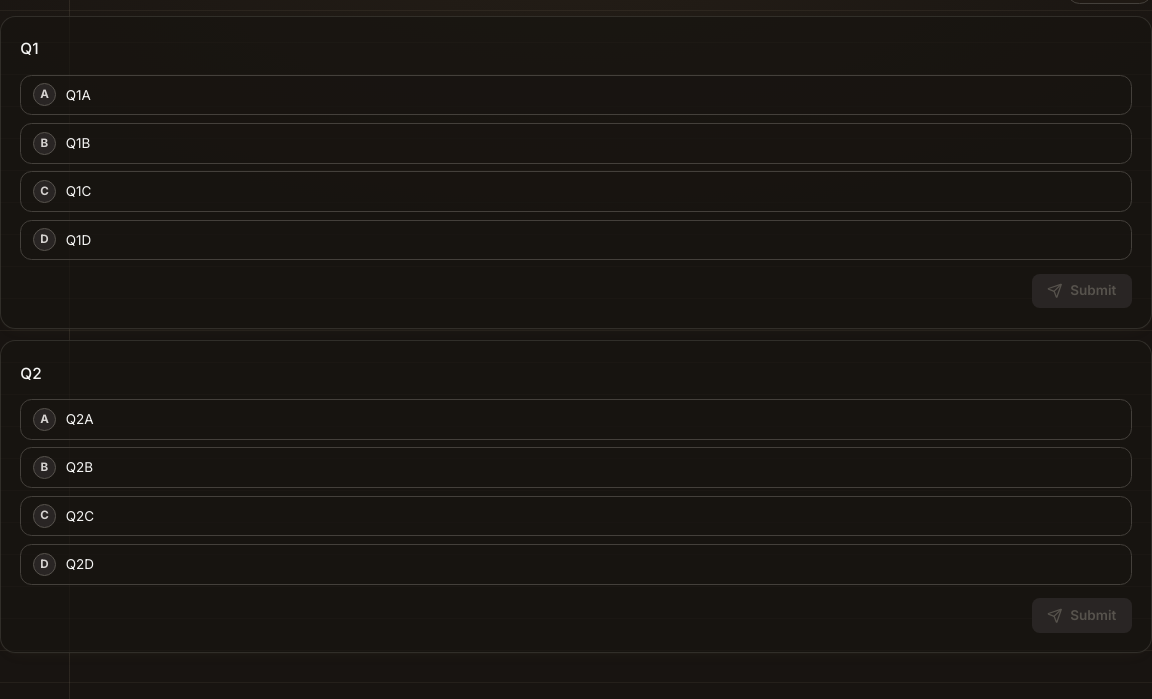
Test: QuizSection › shows a perfect-score summary when every question is answered correctly
This screenshot has width=1152, height=699.
Click the radio button labelled "Q1A". click: (44,95)
box: [20, 75, 1132, 115]
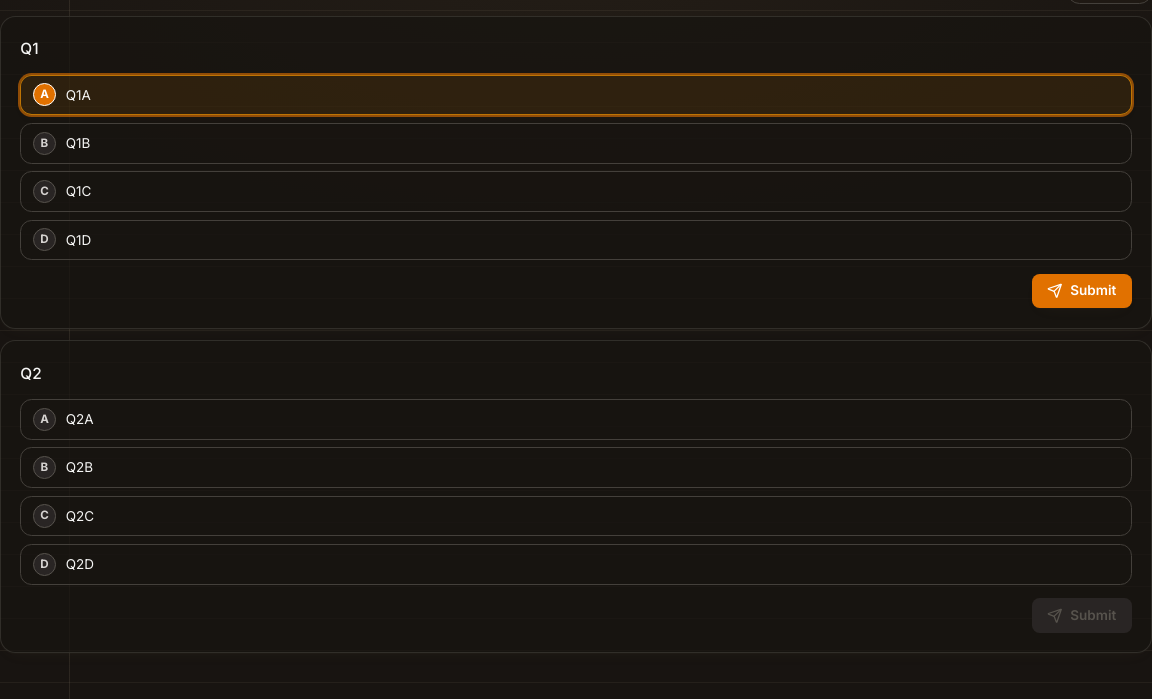
Click the 1st button "Submit". click: (1082,291)
box: [1032, 274, 1132, 308]
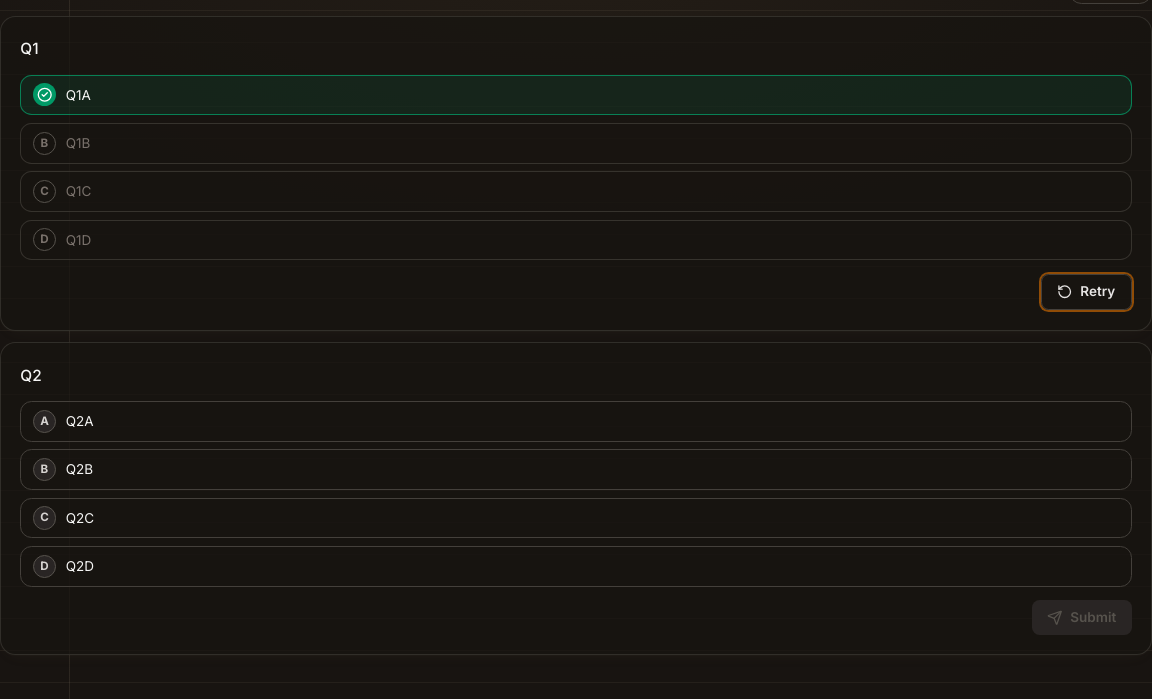
Click the radio button labelled "Q2B". click: (44,470)
box: [20, 449, 1132, 490]
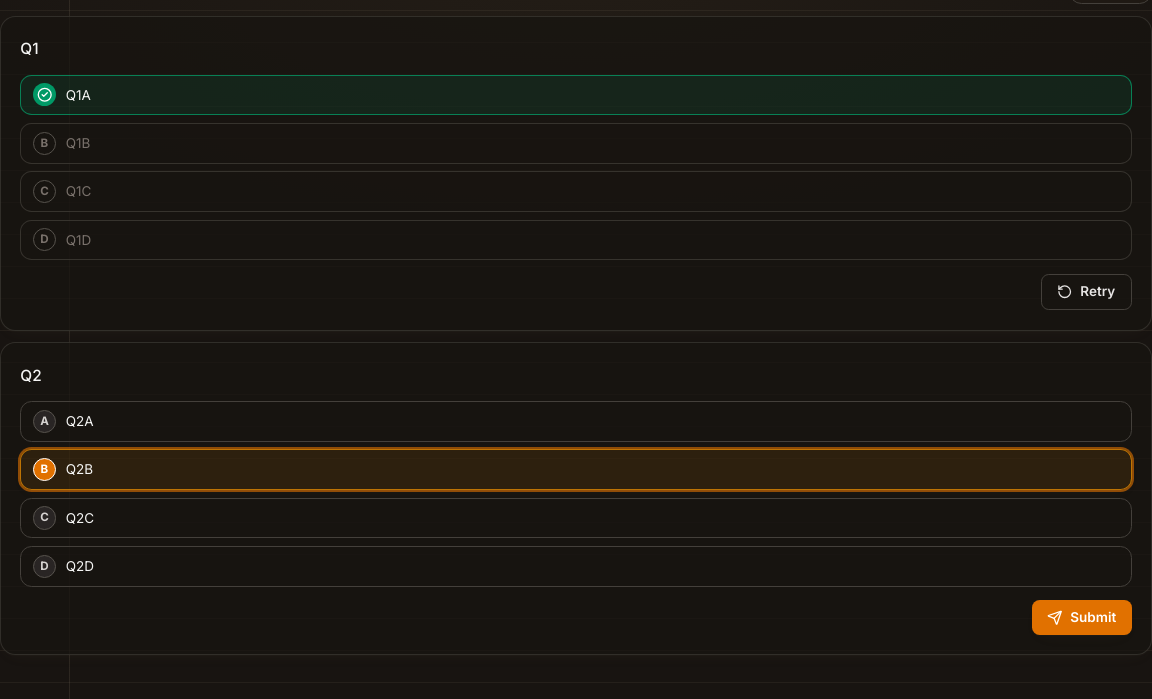
Click the button "Submit". click: (1082,618)
box: [1032, 600, 1132, 635]
(page scrolled)
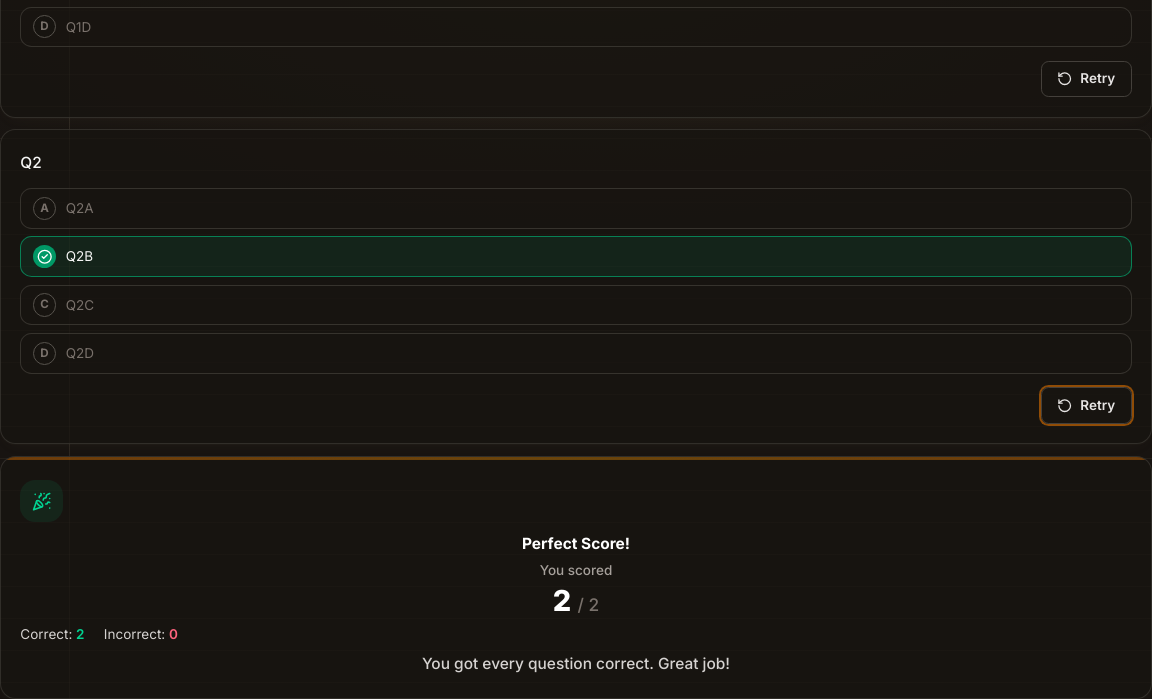
Now the heading "Perfect Score!" is shown, box [522, 534, 630, 553]
